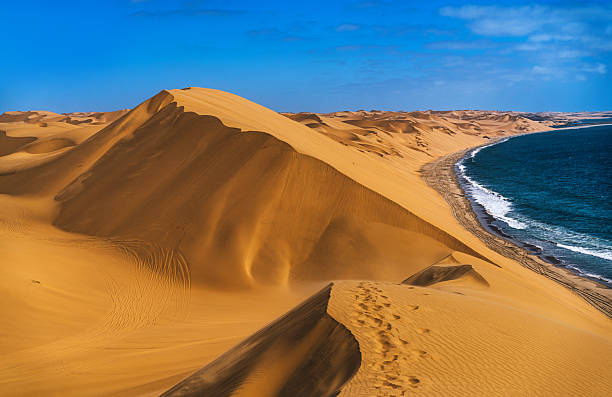human_foot_print: (353, 282, 427, 395)
